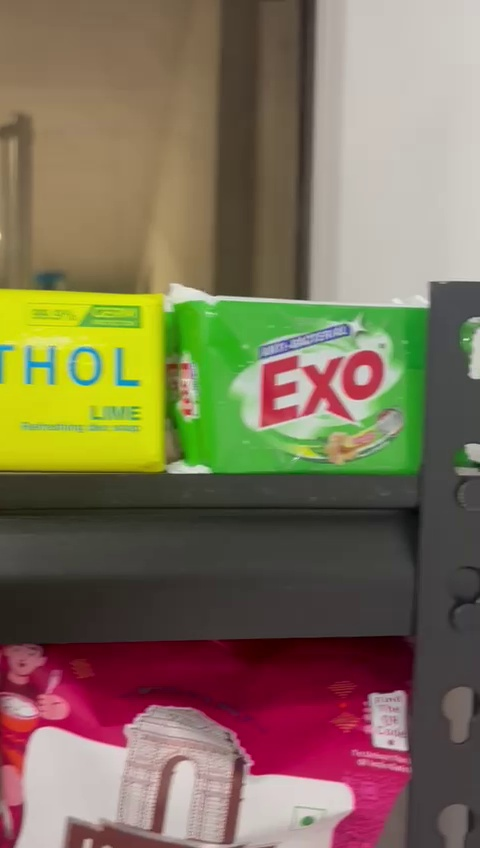Exo Soap: (181, 295, 426, 471)
